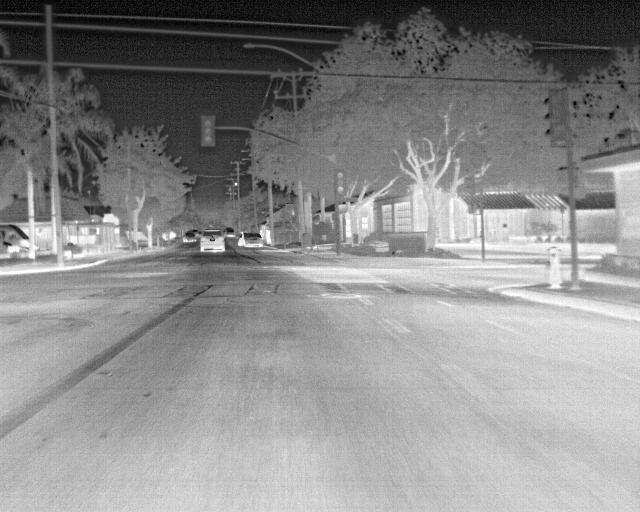bicycle: (195, 229, 225, 252), (237, 232, 264, 249), (181, 229, 195, 243)
